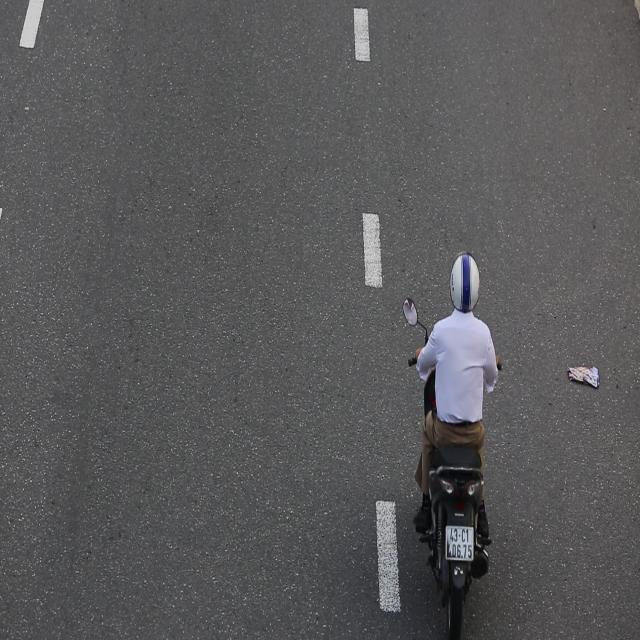motorbike: (401, 242, 507, 640)
